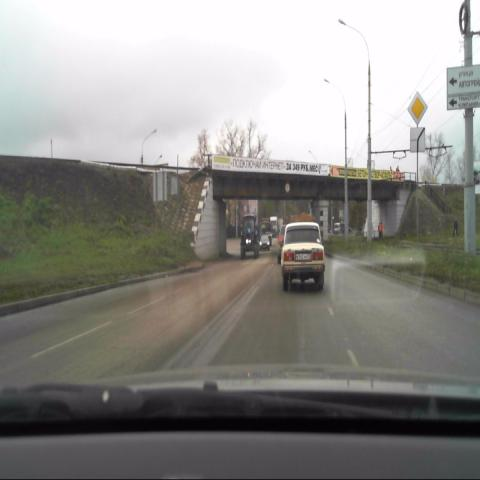2_1: (407, 91, 428, 127)
